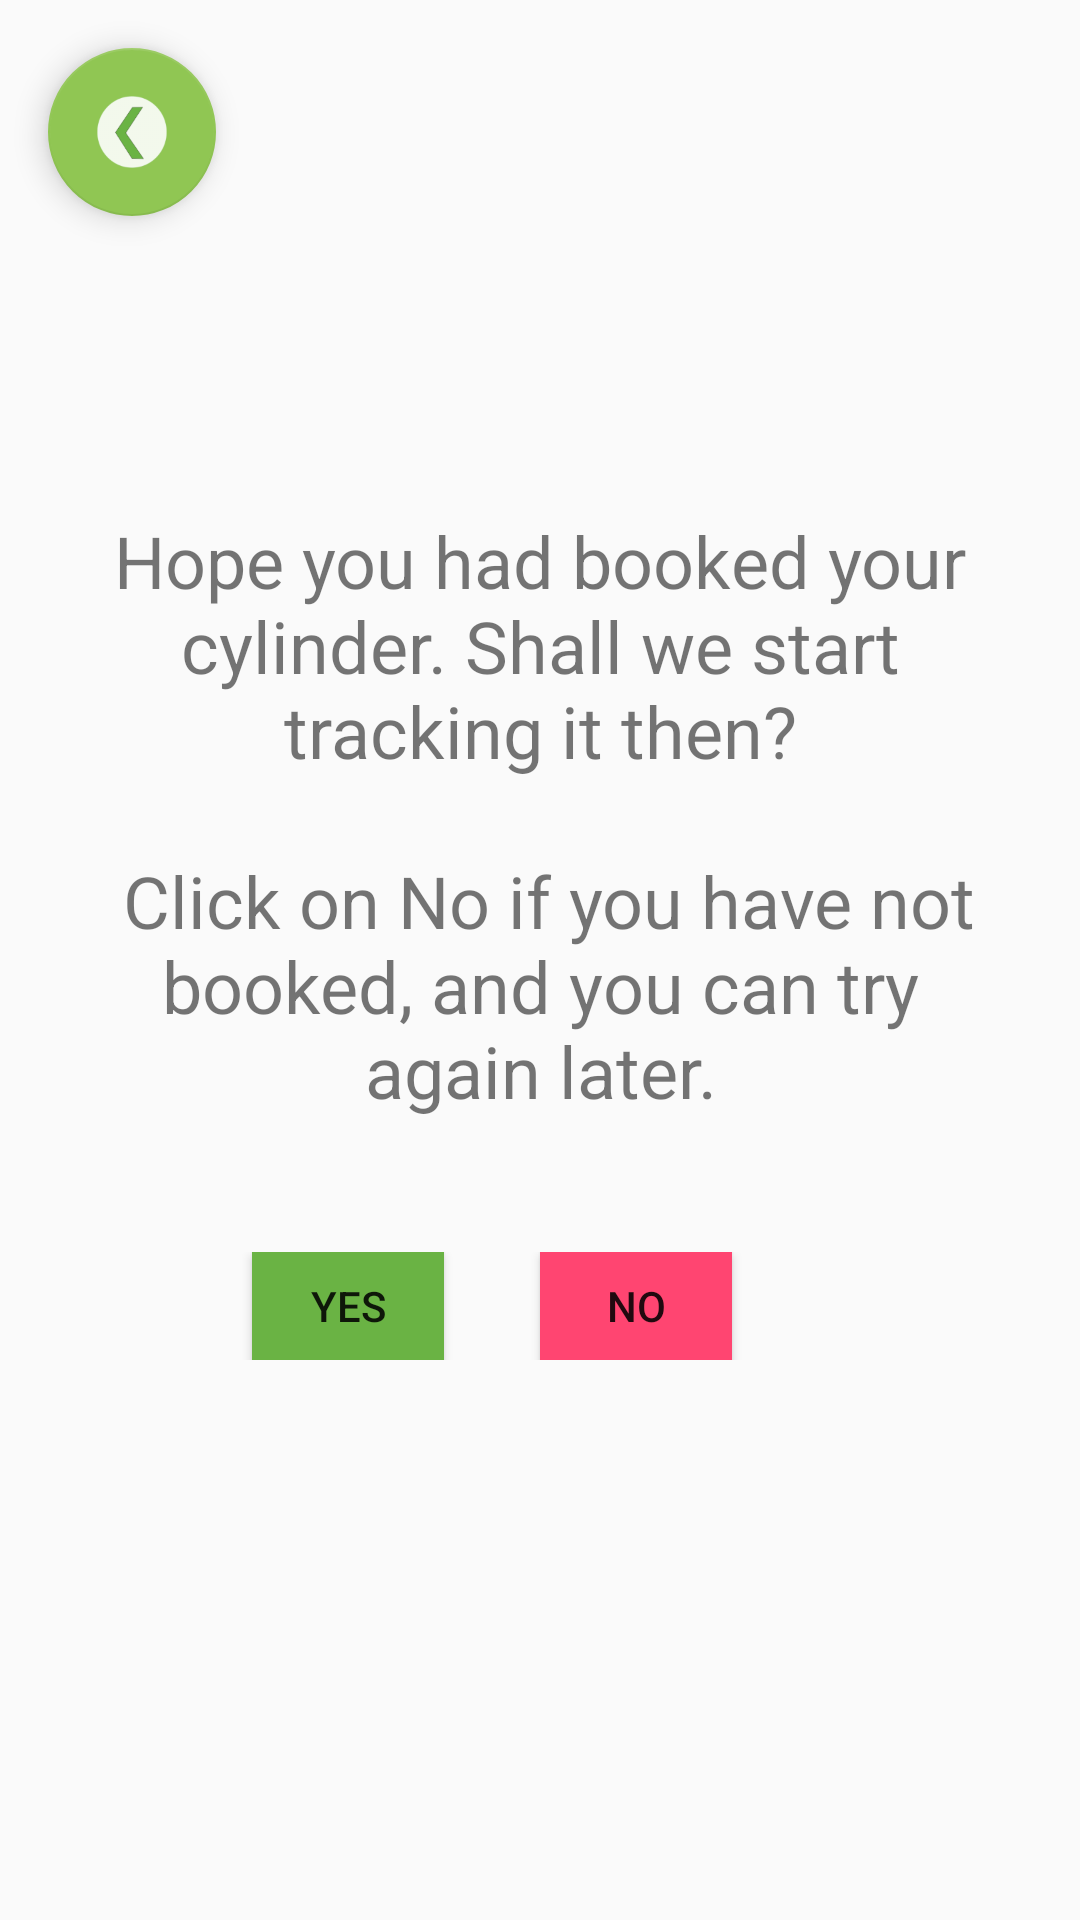

Named icons in this screenshot (1080*1920) and their bounding boxes, (x1, y1, x2, y2):
arrow back: (48, 48, 216, 216)
